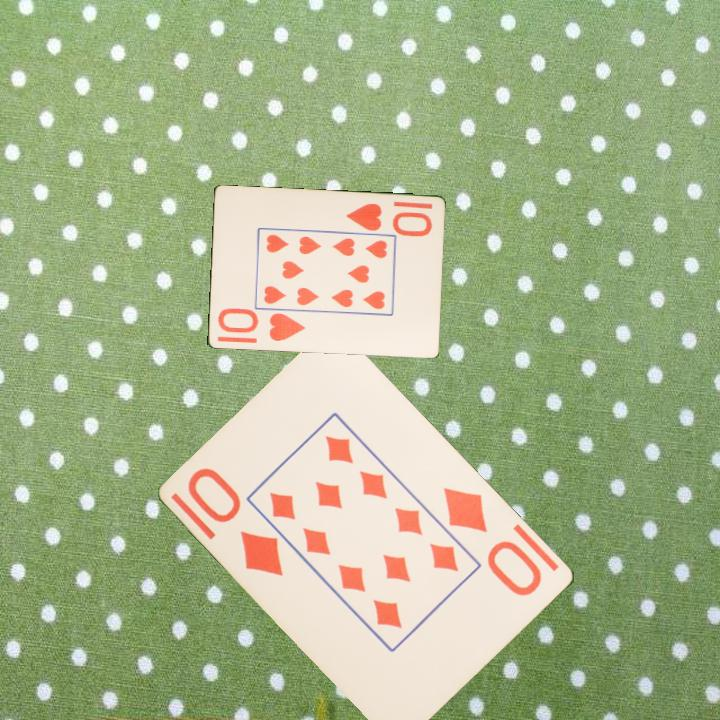10d: (440, 483, 546, 599), (184, 464, 287, 579)
10h: (214, 307, 308, 344), (342, 200, 435, 236)
